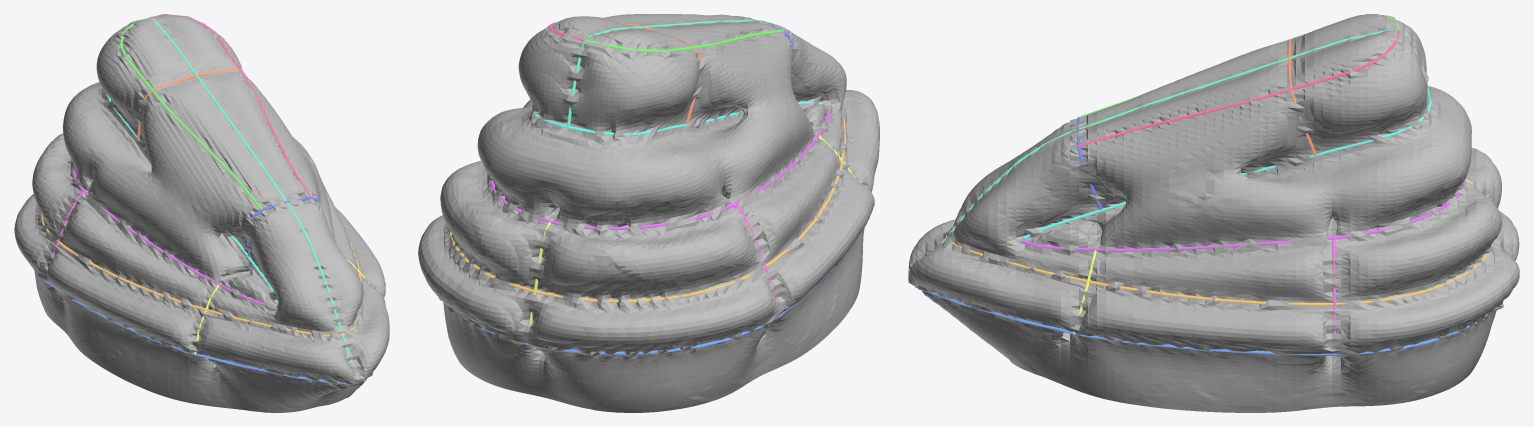
The model's file is t2f_iron.gltf.
3 renders of one model, left to right at view 1: azimuth 30°, elevation 25°; view 2: azimuth 150°, elevation 25°; view 3: azimuth 270°, elevation 25°, orthographic. The views are drawn at different scales.
Bounding box in the file's own units: 0.5073 × 0.4678 × 0.8195.
